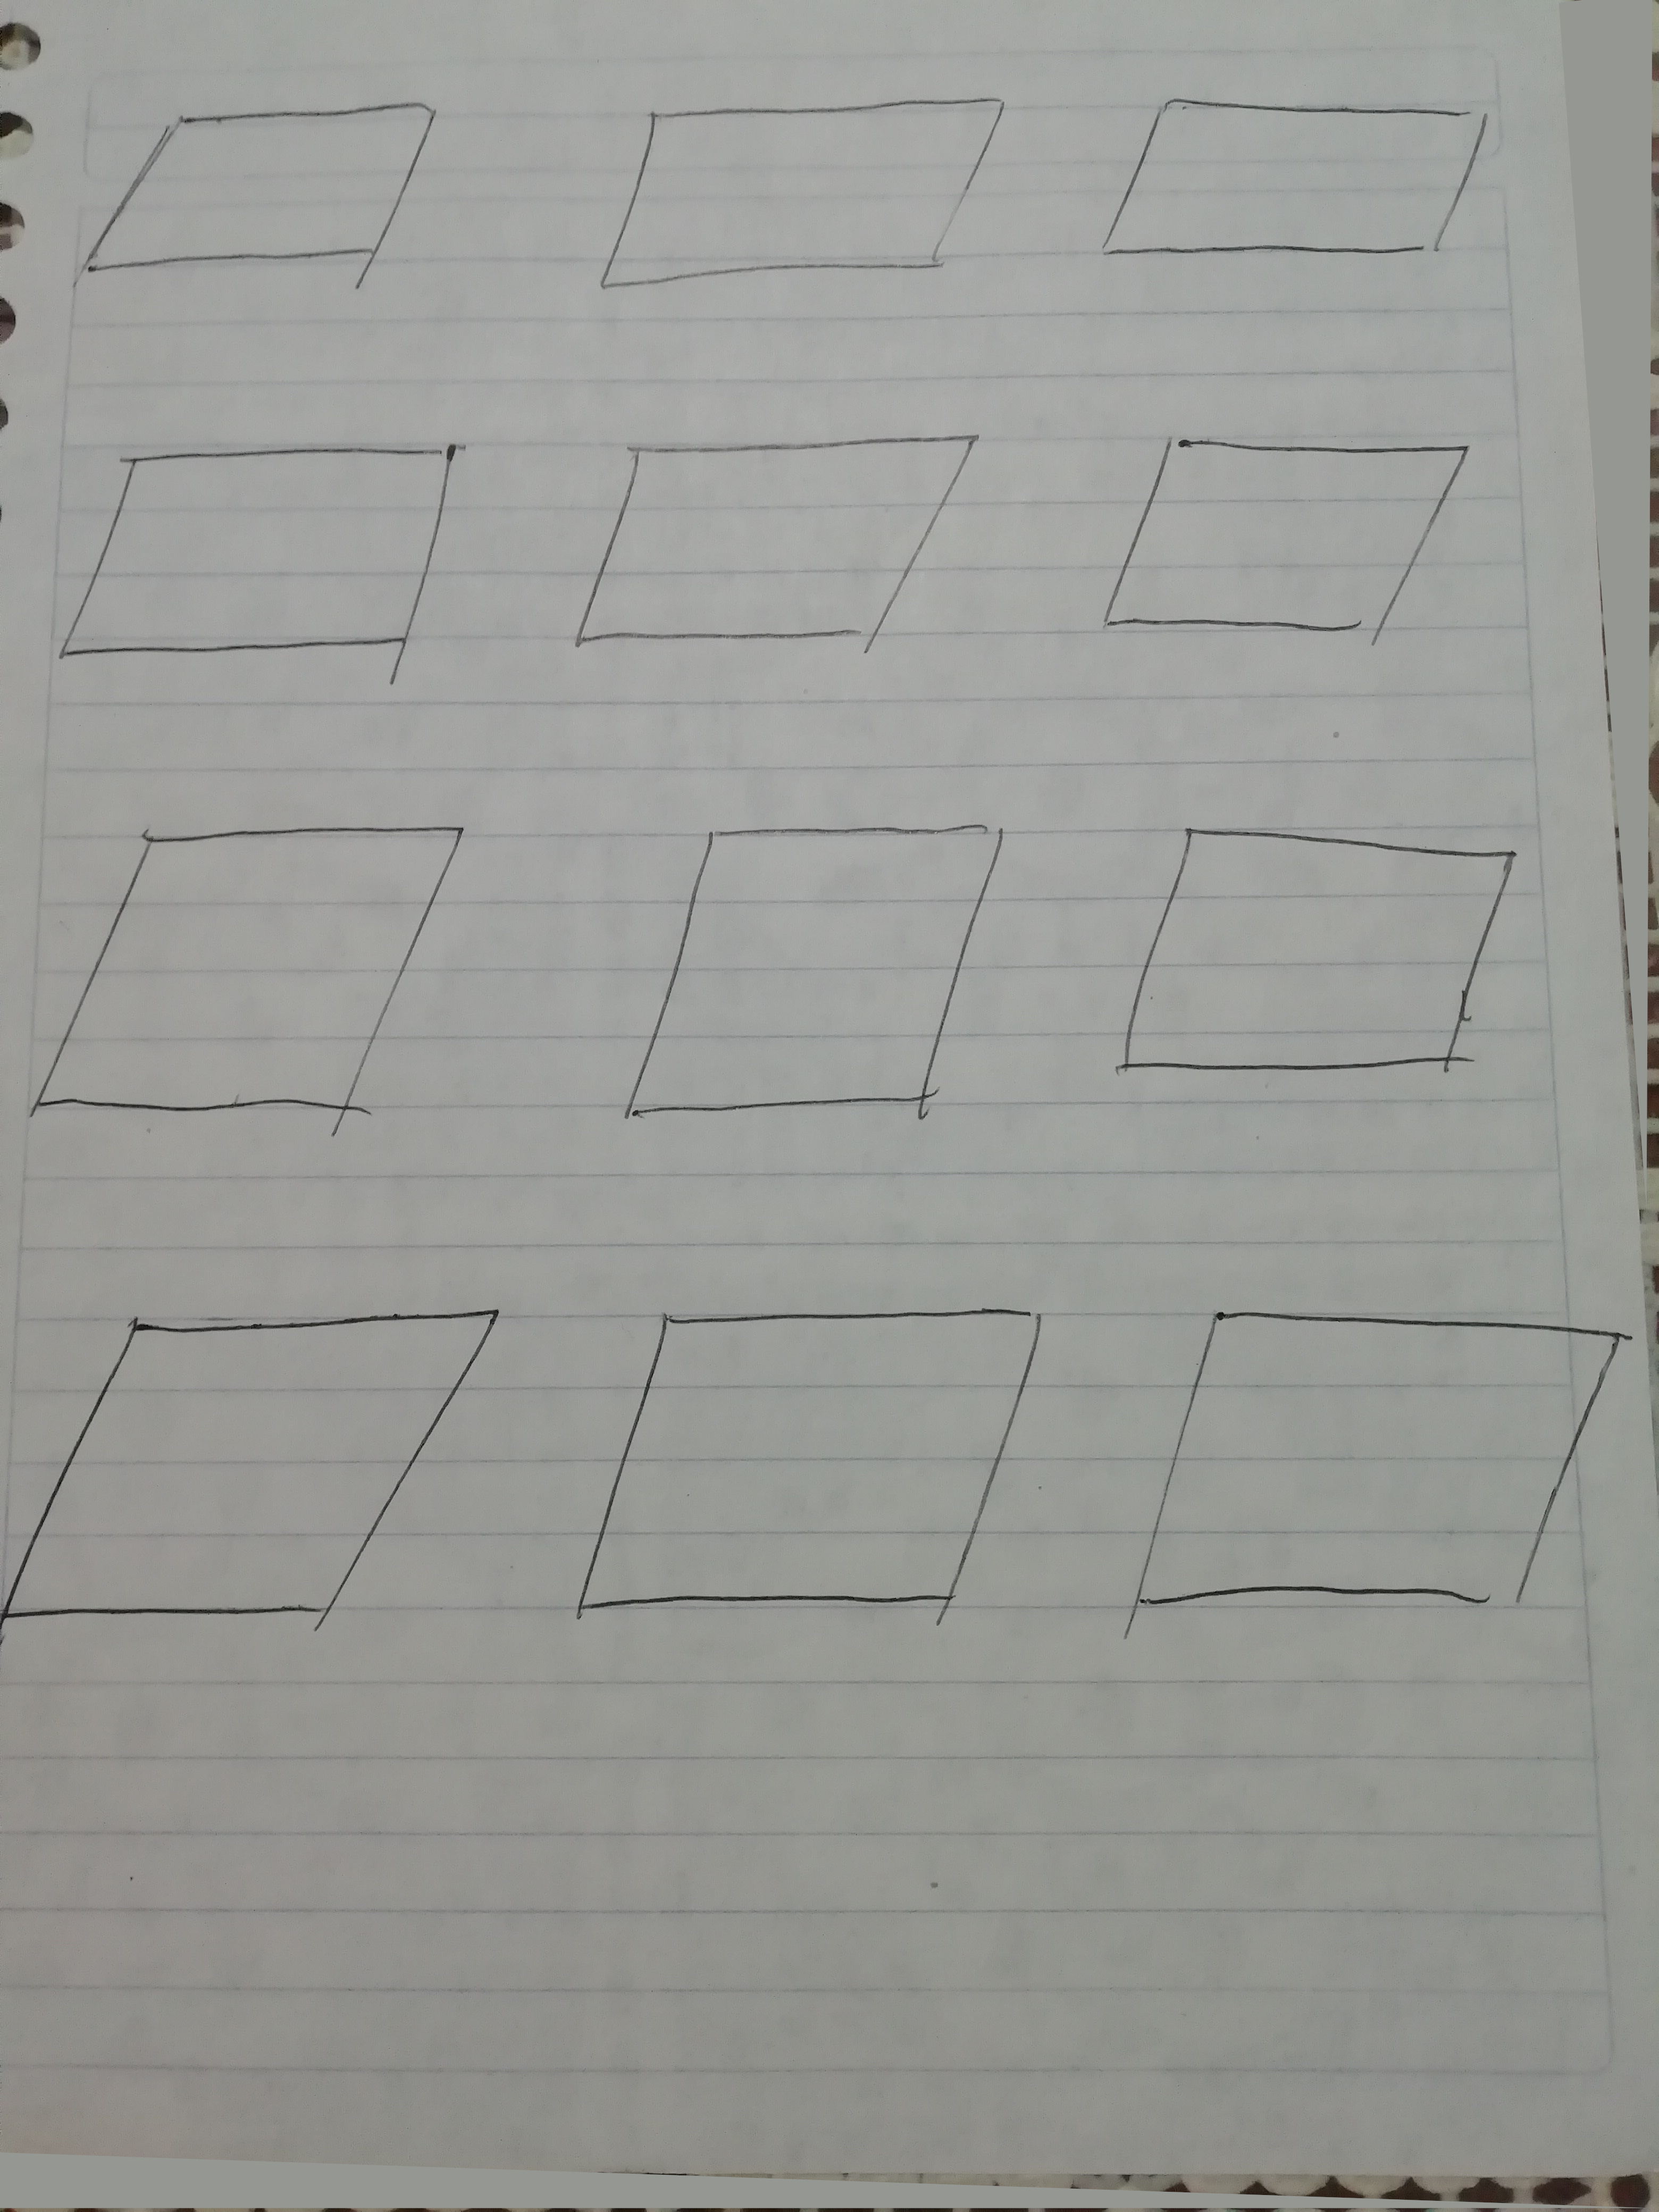scan: (1101, 1261, 1643, 1688), (0, 1277, 526, 1634), (561, 1291, 1072, 1655), (9, 805, 523, 1165), (575, 805, 1047, 1172), (1101, 794, 1554, 1116), (30, 418, 523, 709), (561, 66, 1044, 329), (551, 415, 1012, 678), (1079, 404, 1500, 671), (1068, 71, 1523, 315), (44, 78, 474, 308)
